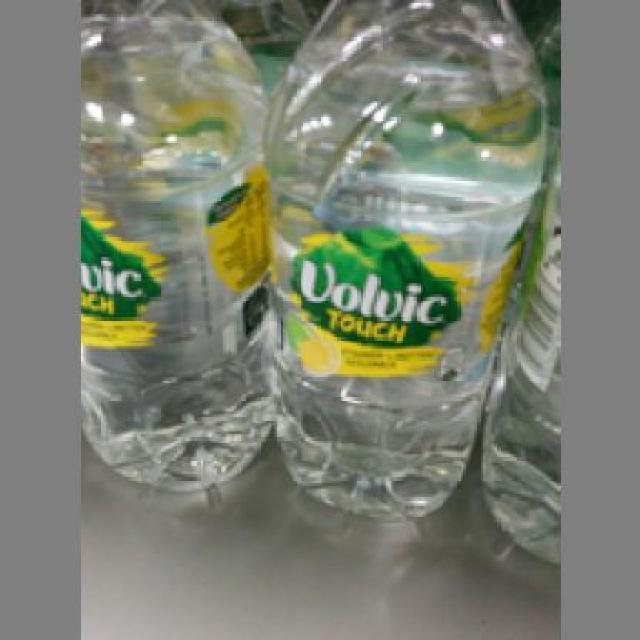Water: (260, 0, 543, 517), (77, 0, 266, 489)
